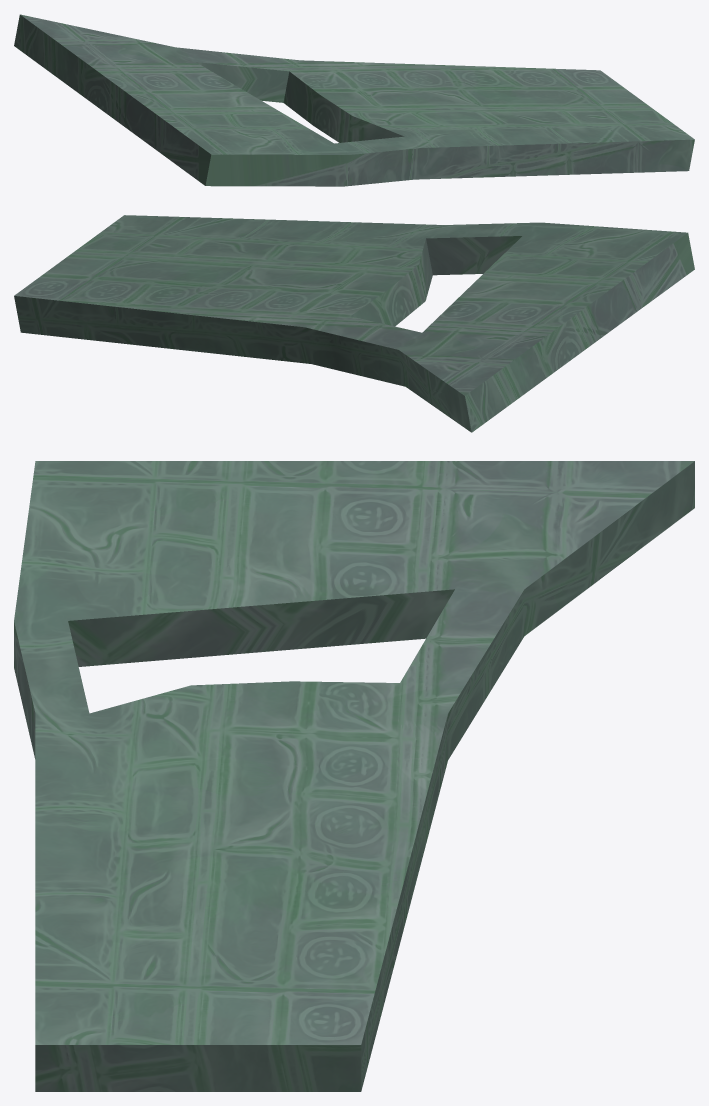
Rendered from BrokenStoneWall_2.fbx.
3 renders of one model, top to bottom at view 1: azimuth 30°, elevation 25°; view 2: azimuth 150°, elevation 25°; view 3: azimuth 270°, elevation 25°, orthographic. The views are drawn at different scales.
Visible parts, largest first — view 1: BrokenStoneWall; view 2: BrokenStoneWall; view 3: BrokenStoneWall.
Boxes of the visible parts, x1=… form: BrokenStoneWall: x1=14, y1=14, x2=694, y2=186; BrokenStoneWall: x1=14, y1=215, x2=694, y2=432; BrokenStoneWall: x1=14, y1=461, x2=694, y2=1091.
Bounding box in the file's own units: 1374 × 357 × 961.
